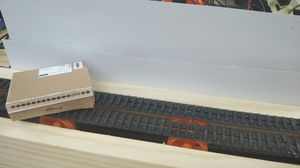box2: (6, 60, 93, 122)
